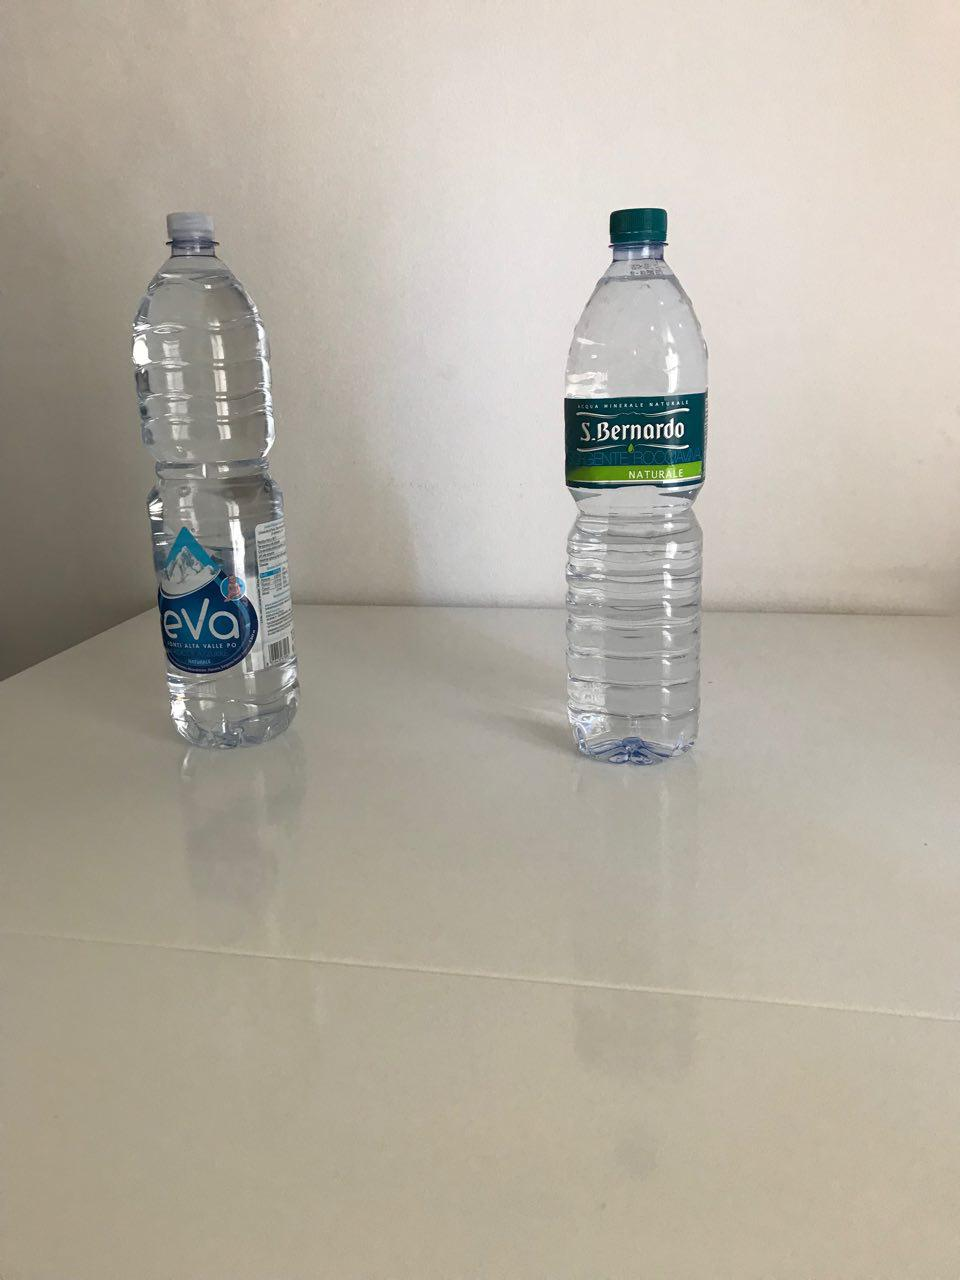san_bernardo: (563, 207, 711, 765)
